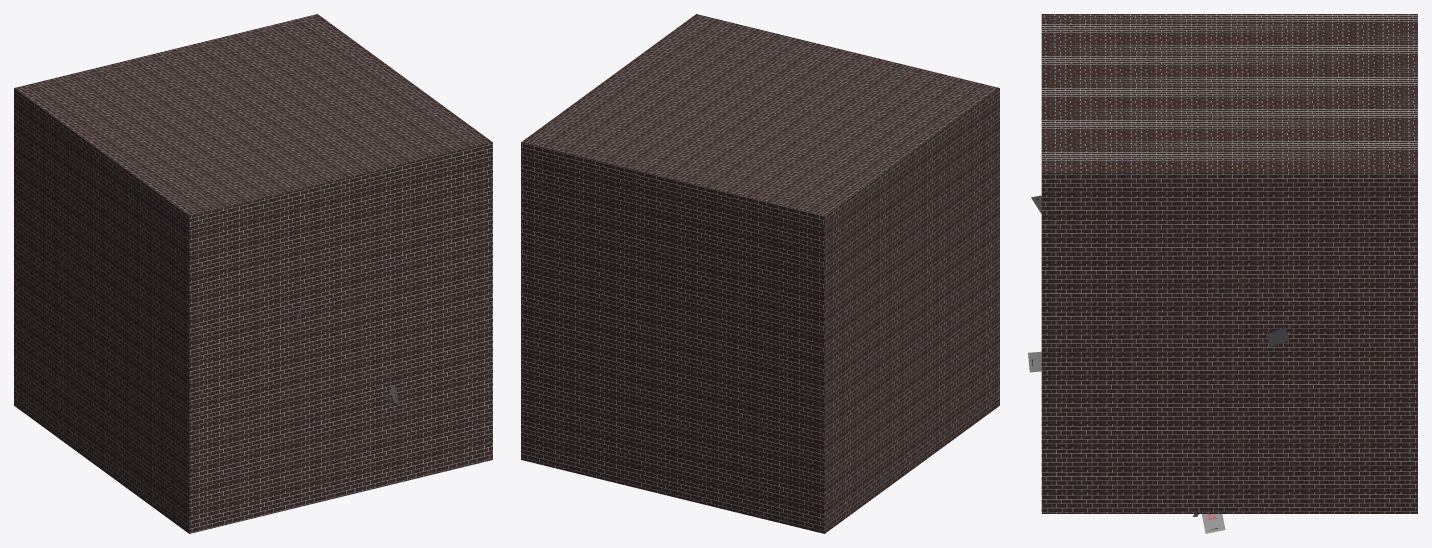
File: BossField.obj
The picture shows the model from 3 angles, left to right: view 1: azimuth 30°, elevation 25°; view 2: azimuth 150°, elevation 25°; view 3: azimuth 270°, elevation 25°; orthographic projection. The views are drawn at different scales.
Parts seen in each view (by area): view 1: field; view 2: field; view 3: field, Cube.
Part boxes in pixels (<box>): field: <box>14,14,492,533</box>; field: <box>521,14,999,533</box>; field: <box>1041,14,1417,513</box>; Cube: <box>1028,195,1300,533</box>.
Size of the model in its own units: 88.91 by 99.41 by 85.41.
11 materials, 11 textured.
